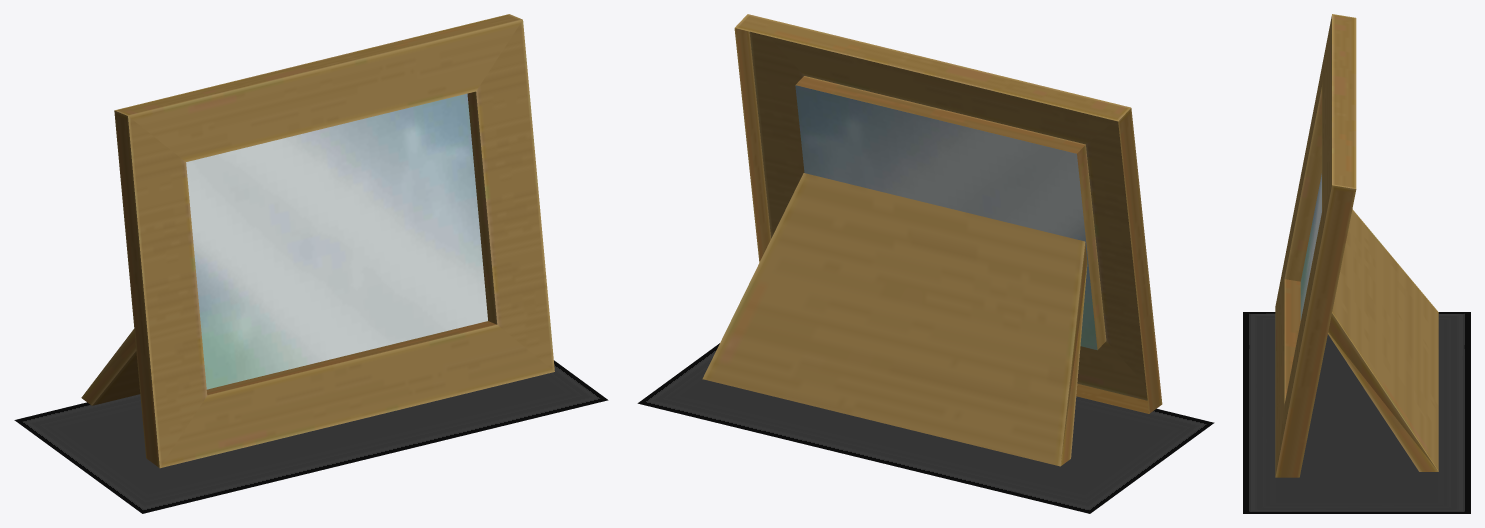
File: Memorable photo.obj
3 renders of one model, left to right at view 1: azimuth 30°, elevation 25°; view 2: azimuth 150°, elevation 25°; view 3: azimuth 270°, elevation 25°, orthographic. The views are drawn at different scales.
Visible parts, largest first — view 1: omoidesyasin1_omoidesyasin1_omoidesyasin.png, omoidesyasin1_omoidesyasin1_shadow1.png.108; view 2: omoidesyasin1_omoidesyasin1_omoidesyasin.png, omoidesyasin1_omoidesyasin1_shadow1.png.108; view 3: omoidesyasin1_omoidesyasin1_omoidesyasin.png, omoidesyasin1_omoidesyasin1_shadow1.png.108.
Part boxes in pixels (box(x1,y1,x2,y2)): omoidesyasin1_omoidesyasin1_omoidesyasin.png: box(81, 14, 554, 468); omoidesyasin1_omoidesyasin1_shadow1.png.108: box(14, 360, 608, 513); omoidesyasin1_omoidesyasin1_omoidesyasin.png: box(702, 14, 1162, 466); omoidesyasin1_omoidesyasin1_shadow1.png.108: box(637, 343, 1214, 513); omoidesyasin1_omoidesyasin1_omoidesyasin.png: box(1275, 14, 1438, 477); omoidesyasin1_omoidesyasin1_shadow1.png.108: box(1243, 312, 1470, 513).
Bounding box in the file's own units: 3.01 × 2.18 × 1.43.
2 materials, 2 textured.
